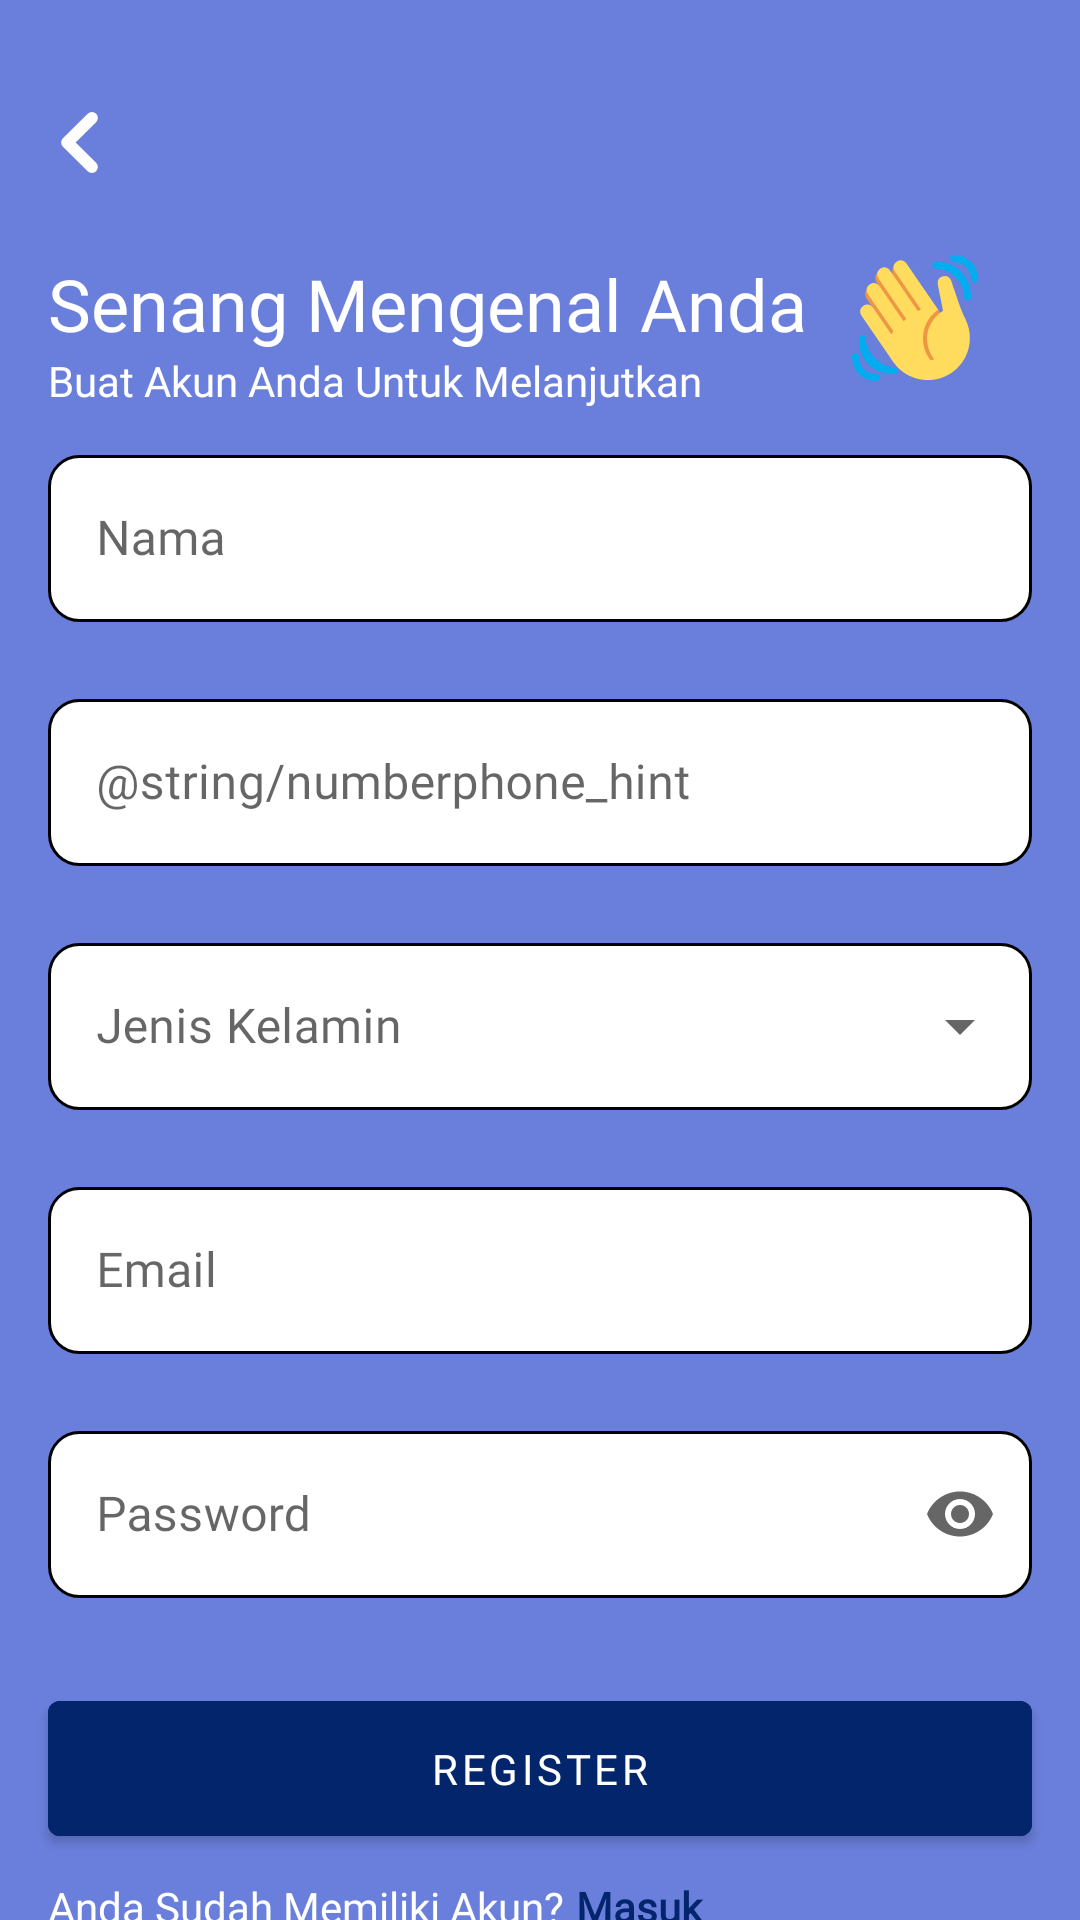

Where to tap for icons on this 1080 × 1920 app screen, as (x,y):
back: (79,142)
hand hello: (915,318)
